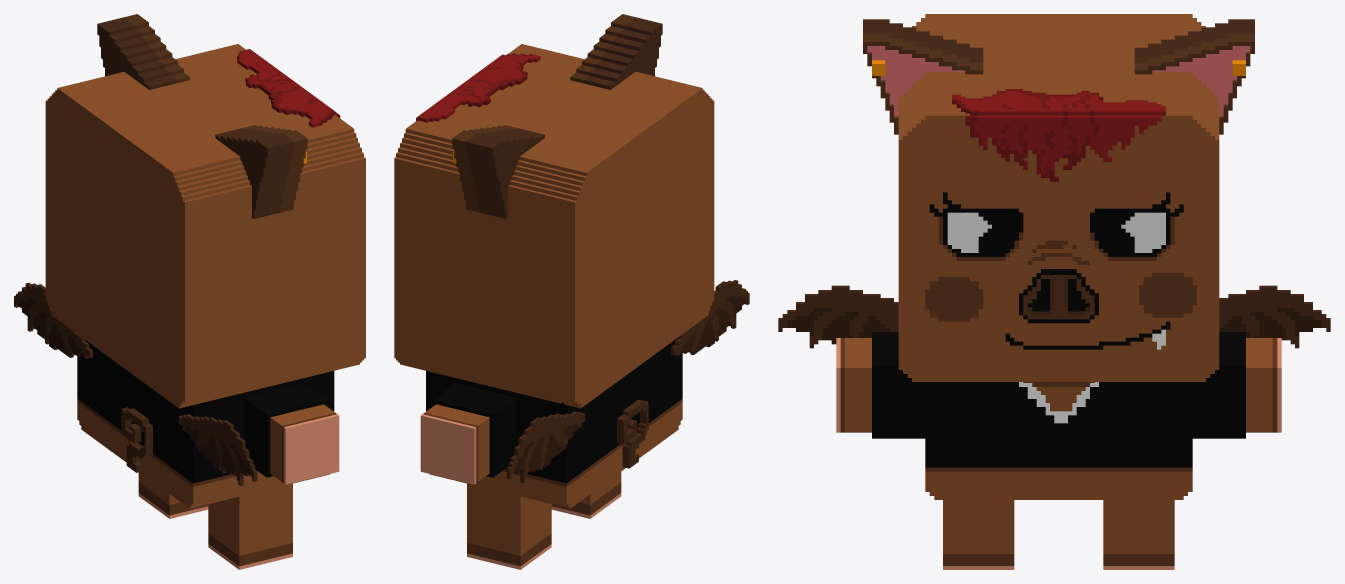
Rendered from NPC_6.obj.
The picture shows the model from 3 angles, left to right: view 1: azimuth 30°, elevation 25°; view 2: azimuth 150°, elevation 25°; view 3: azimuth 270°, elevation 25°; orthographic projection. The views are drawn at different scales.
Bounding box in the file's own units: 5.5 × 12.8 × 12.4.
